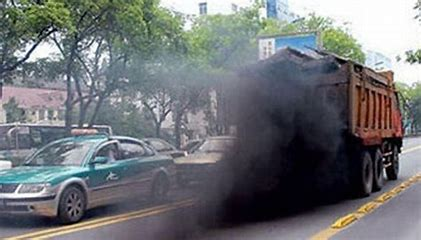smoke: (172, 62, 340, 228)
